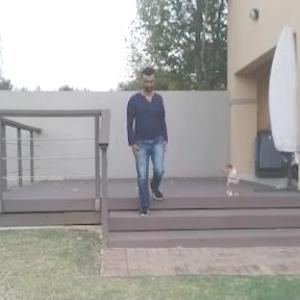follow: (126, 66, 165, 218)
